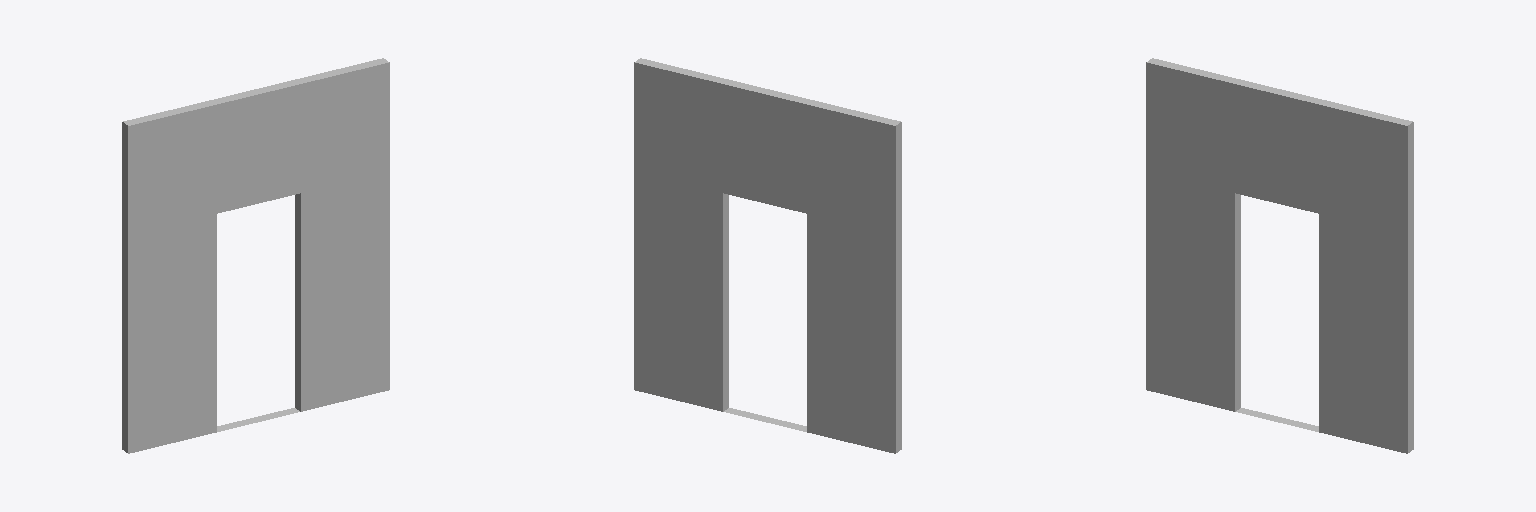
Rendered from ParedPuerta.obj.
The picture shows the model from 3 angles: view 1: azimuth 30°, elevation 25°; view 2: azimuth 150°, elevation 25°; view 3: azimuth 330°, elevation 25°; orthographic projection.
Bounding box in the file's own units: 2.5 × 3 × 0.1.